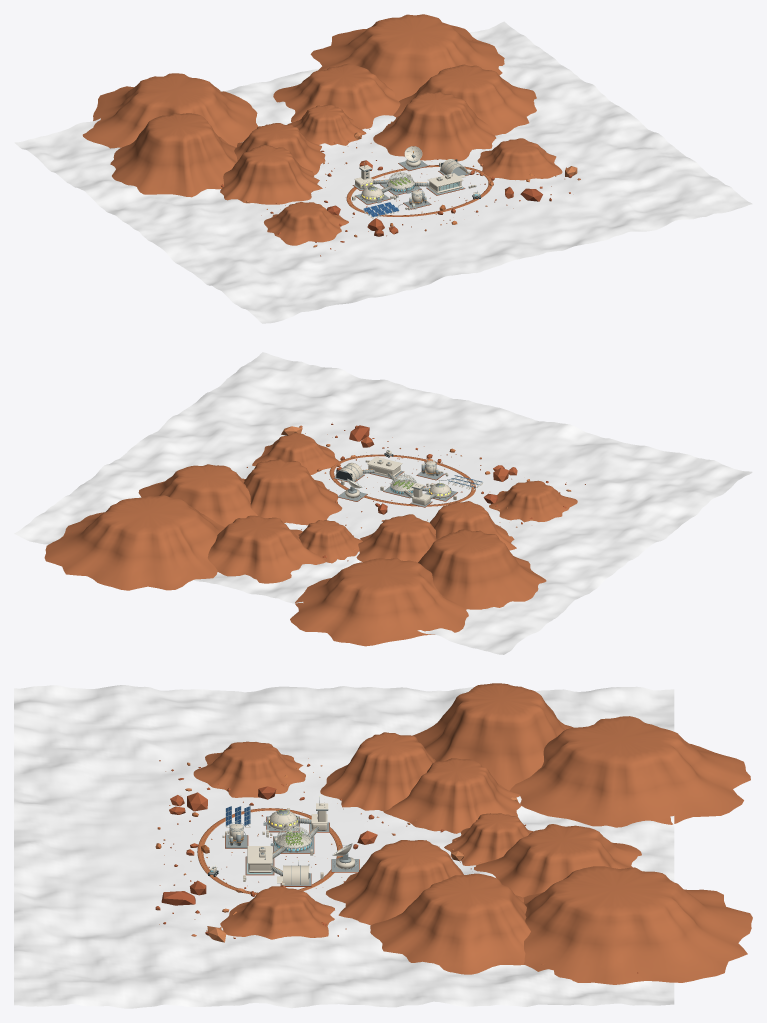
File: mars-reference-outpost.glb
3 renders of one model, top to bottom at view 1: azimuth 30°, elevation 25°; view 2: azimuth 150°, elevation 25°; view 3: azimuth 270°, elevation 25°, orthographic. The views are drawn at different scales.
Parts seen in each view (by area): view 1: Continuous undulating terrain, Eroded layered mesa.008, Eroded layered mesa.004, Eroded layered mesa.007, Eroded layered mesa.002, Eroded layered mesa.006, Eroded layered mesa.003, Eroded layered mesa, Eroded layered mesa.010, Eroded layered mesa.009, Eroded layered mesa.001, Eroded layered mesa.005 (+1 smaller); view 2: Continuous undulating terrain, Eroded layered mesa.008, Eroded layered mesa.007, Eroded layered mesa.004, Eroded layered mesa.006, Eroded layered mesa.002, Eroded layered mesa.003, Eroded layered mesa.001, Eroded layered mesa.009, Eroded layered mesa, Eroded layered mesa.010, Eroded layered mesa.005 (+1 smaller); view 3: Continuous undulating terrain, Eroded layered mesa.008, Eroded layered mesa.007, Eroded layered mesa.003, Eroded layered mesa.004, Eroded layered mesa.002, Eroded layered mesa.006, Eroded layered mesa.001, Eroded layered mesa, Eroded layered mesa.010, Eroded layered mesa.009, Eroded layered mesa.005 (+1 smaller).
Part boxes in pixels (x1=…): Continuous undulating terrain: x1=14, y1=21, x2=752, y2=323; Eroded layered mesa.008: x1=310, y1=14, x2=504, y2=100; Eroded layered mesa.004: x1=110, y1=113, x2=237, y2=197; Eroded layered mesa.007: x1=82, y1=73, x2=258, y2=148; Eroded layered mesa.002: x1=373, y1=91, x2=496, y2=161; Eroded layered mesa.006: x1=273, y1=63, x2=400, y2=129; Eroded layered mesa.003: x1=393, y1=64, x2=536, y2=135; Eroded layered mesa: x1=220, y1=145, x2=322, y2=204; Eroded layered mesa.010: x1=477, y1=138, x2=562, y2=180; Eroded layered mesa.009: x1=264, y1=202, x2=348, y2=245; Eroded layered mesa.001: x1=234, y1=123, x2=325, y2=174; Eroded layered mesa.005: x1=287, y1=104, x2=366, y2=145; Continuous undulating terrain: x1=14, y1=352, x2=752, y2=654; Eroded layered mesa.008: x1=44, y1=495, x2=225, y2=590; Eroded layered mesa.007: x1=290, y1=558, x2=468, y2=646; Eroded layered mesa.004: x1=418, y1=529, x2=546, y2=609; Eroded layered mesa.006: x1=207, y1=515, x2=325, y2=583; Eroded layered mesa.002: x1=244, y1=459, x2=342, y2=525; Eroded layered mesa.003: x1=138, y1=464, x2=257, y2=527; Eroded layered mesa.001: x1=356, y1=514, x2=436, y2=562; Eroded layered mesa.009: x1=489, y1=480, x2=577, y2=522; Eroded layered mesa: x1=429, y1=501, x2=516, y2=550; Eroded layered mesa.010: x1=252, y1=433, x2=339, y2=474; Eroded layered mesa.005: x1=298, y1=520, x2=362, y2=563; Continuous undulating terrain: x1=14, y1=685, x2=674, y2=1008; Eroded layered mesa.008: x1=523, y1=866, x2=752, y2=984; Eroded layered mesa.007: x1=509, y1=716, x2=750, y2=827; Eroded layered mesa.003: x1=370, y1=873, x2=530, y2=974; Eroded layered mesa.004: x1=413, y1=683, x2=573, y2=790; Eroded layered mesa.002: x1=326, y1=840, x2=463, y2=925; Eroded layered mesa.006: x1=474, y1=824, x2=641, y2=897; Eroded layered mesa.001: x1=383, y1=758, x2=521, y2=833; Eroded layered mesa: x1=320, y1=732, x2=435, y2=811; Eroded layered mesa.010: x1=220, y1=886, x2=334, y2=939; Eroded layered mesa.009: x1=193, y1=741, x2=305, y2=797; Eroded layered mesa.005: x1=444, y1=813, x2=533, y2=865.
Size of the model in its own units: 290 by 25.46 by 285.
